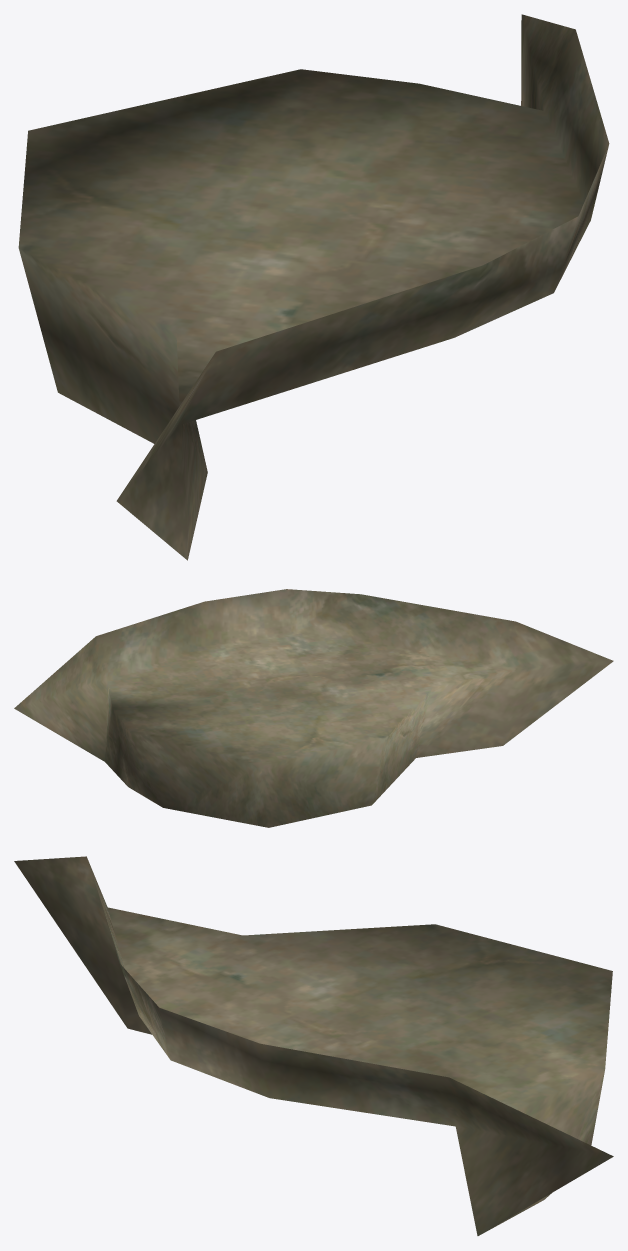
Rendered from EKH_CAVERNS_PS_CA_OBJECT03.fbx.
The picture shows the model from 3 angles, top to bottom: view 1: azimuth 30°, elevation 25°; view 2: azimuth 150°, elevation 25°; view 3: azimuth 270°, elevation 25°; orthographic projection. The views are drawn at different scales.
Visible parts, largest first — view 1: EKH_CAVERNS_PS_CA_OBJECT03; view 2: EKH_CAVERNS_PS_CA_OBJECT03; view 3: EKH_CAVERNS_PS_CA_OBJECT03.
Part boxes in pixels (x1=…): EKH_CAVERNS_PS_CA_OBJECT03: x1=18, y1=14, x2=609, y2=560; EKH_CAVERNS_PS_CA_OBJECT03: x1=14, y1=589, x2=613, y2=827; EKH_CAVERNS_PS_CA_OBJECT03: x1=14, y1=856, x2=613, y2=1235.
Bounding box in the file's own units: 35653 × 9705 × 30585.
1 material, 1 textured.
